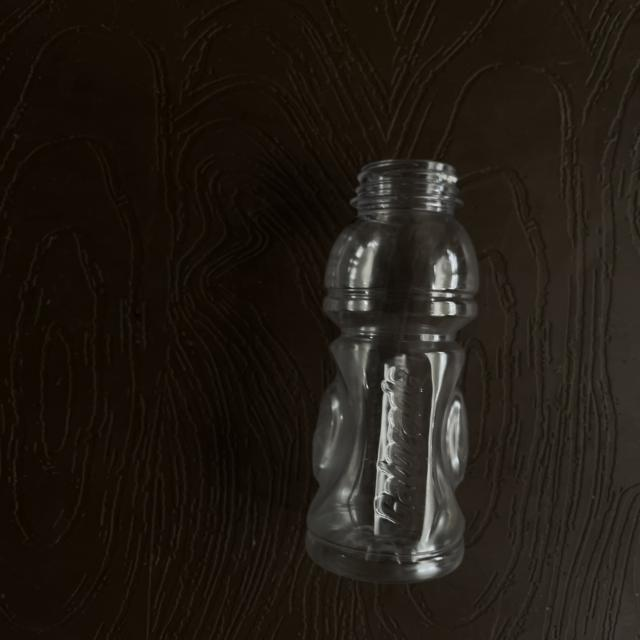PET_ClearBottle: (269, 145, 595, 590)
